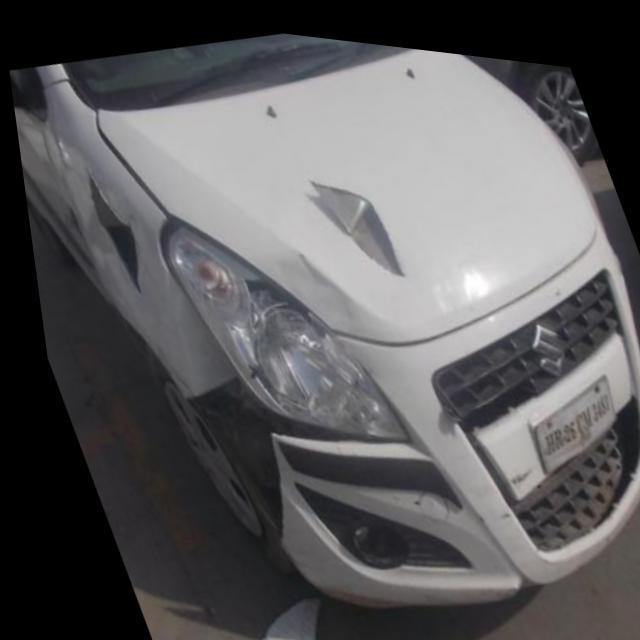dislocated part: (180, 365, 289, 548)
lamp broken: (225, 267, 370, 424)
rub: (296, 168, 410, 276), (79, 172, 142, 308)
